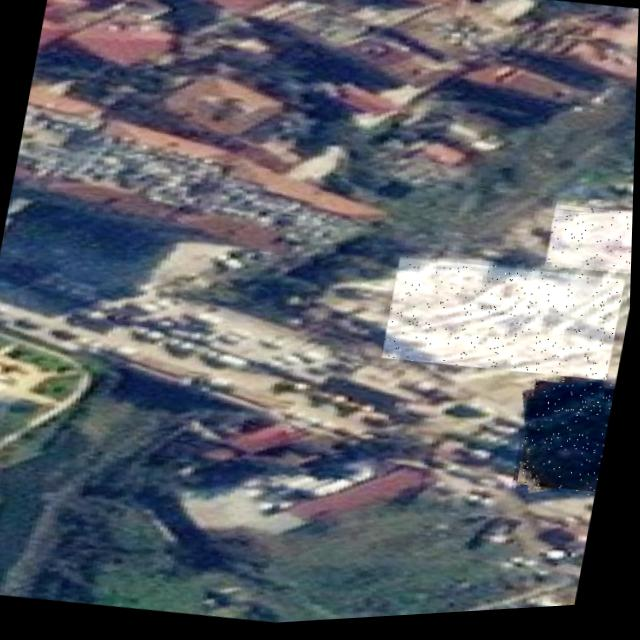Rubble: (382, 250, 627, 398), (513, 379, 618, 508), (545, 208, 634, 287)
